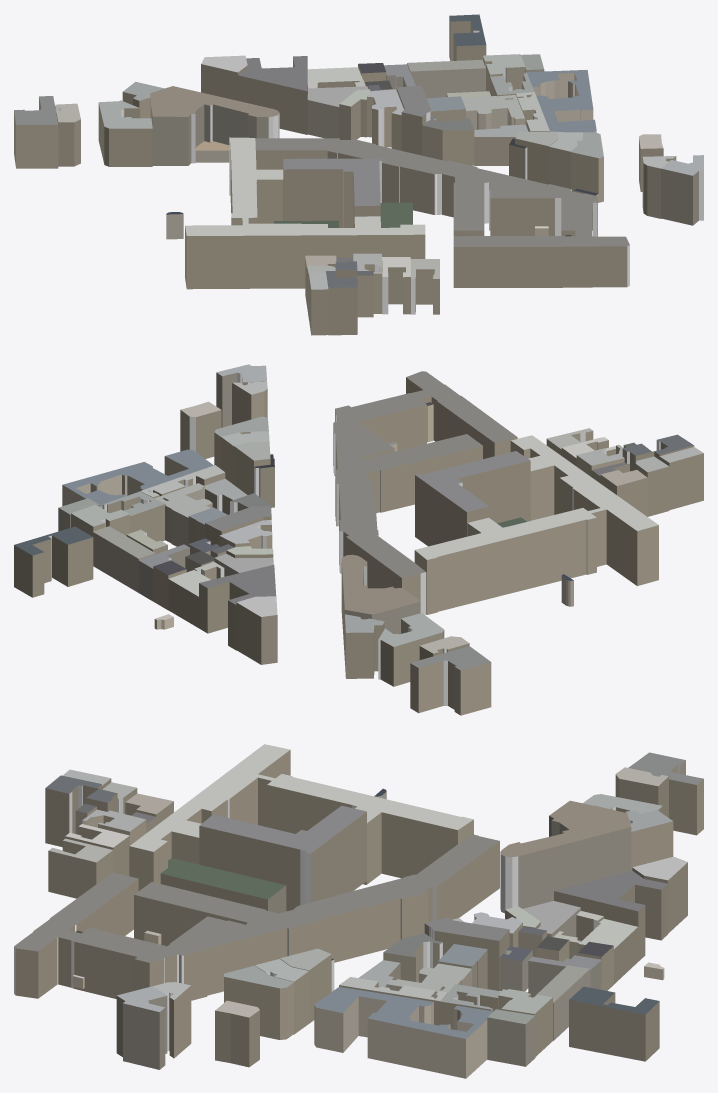
The picture shows the model from 3 angles, top to bottom: view 1: azimuth 30°, elevation 25°; view 2: azimuth 150°, elevation 25°; view 3: azimuth 270°, elevation 25°; orthographic projection. The views are drawn at different scales.
Parts seen in each view (by area): view 1: tuile; view 2: tuile; view 3: tuile.
Part boxes in pixels (box(x1,y1,x2,y2)): tuile: box(14, 14, 703, 335); tuile: box(14, 364, 703, 715); tuile: box(14, 744, 703, 1078).
Size of the model in its own units: 277 by 34.21 by 290.
